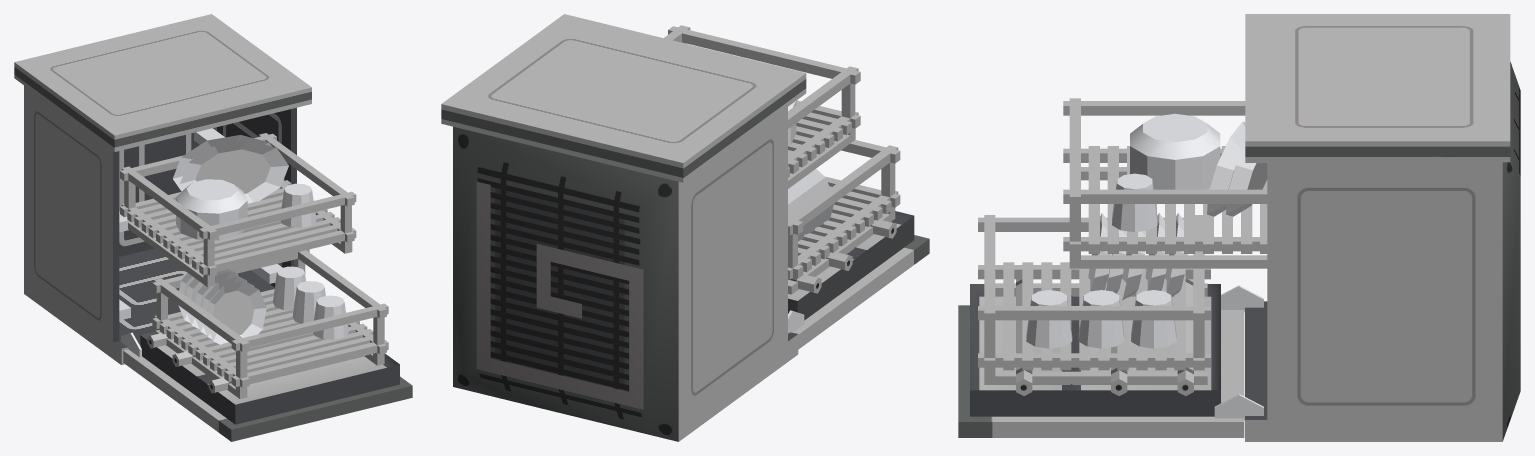
The model's file is Dishwasher.glb.
3 renders of one model, left to right at view 1: azimuth 30°, elevation 25°; view 2: azimuth 150°, elevation 25°; view 3: azimuth 270°, elevation 25°, orthographic. The views are drawn at different scales.
Visible parts, largest first — view 1: Dishwasher1, Door, Pallet, Pallet1, Dishes1, Dishes11, Dishes7, Dishes8, Dishes9, Dishes3, Dishes10, Dishes2 (+3 smaller); view 2: Dishwasher1, Door, Pallet, Pallet1, Dishes5; view 3: Dishwasher1, Door, Pallet, Pallet1, Dishes11, Dishes9, Dishes10, Dishes8, Dishes3, Dishes1, Dishes2, Dishes (+3 smaller).
Part boxes in pixels (x1=…): Dishwasher1: x1=14, y1=14, x2=311, y2=365; Door: x1=121, y1=312, x2=412, y2=441; Pallet: x1=152, y1=249, x2=388, y2=398; Pallet1: x1=120, y1=133, x2=356, y2=287; Dishes1: x1=180, y1=140, x2=288, y2=203; Dishes11: x1=176, y1=179, x2=247, y2=240; Dishes7: x1=207, y1=281, x2=266, y2=344; Dishes8: x1=273, y1=266, x2=305, y2=310; Dishes9: x1=292, y1=281, x2=325, y2=323; Dishes3: x1=281, y1=183, x2=316, y2=227; Dishes10: x1=313, y1=295, x2=348, y2=339; Dishes2: x1=173, y1=135, x2=271, y2=191; Dishwasher1: x1=441, y1=14, x2=806, y2=441; Door: x1=788, y1=211, x2=929, y2=349; Pallet: x1=788, y1=140, x2=900, y2=294; Pallet1: x1=664, y1=25, x2=860, y2=188; Dishes5: x1=790, y1=180, x2=818, y2=234; Dishwasher1: x1=1245, y1=14, x2=1520, y2=441; Door: x1=958, y1=279, x2=1263, y2=437; Pallet: x1=978, y1=215, x2=1210, y2=384; Pallet1: x1=1063, y1=98, x2=1267, y2=268; Dishes11: x1=1130, y1=113, x2=1220, y2=189; Dishes9: x1=1078, y1=290, x2=1124, y2=348; Dishes10: x1=1026, y1=290, x2=1072, y2=348; Dishes8: x1=1131, y1=290, x2=1176, y2=348; Dishes3: x1=1112, y1=173, x2=1157, y2=232; Dishes1: x1=1207, y1=121, x2=1245, y2=216; Dishes2: x1=1226, y1=146, x2=1267, y2=216; Dishes: x1=1165, y1=213, x2=1187, y2=296.
Bounding box in the file's own units: 316 × 354 × 591.
1 material, 1 textured.
